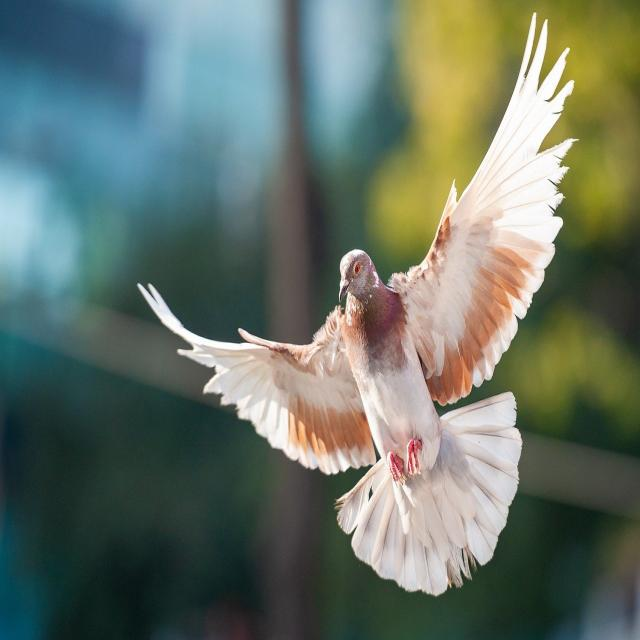birds: (136, 12, 590, 611)
